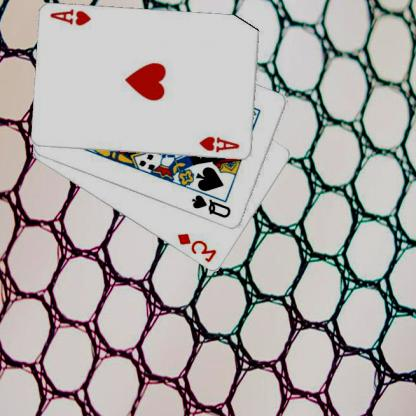3D: (176, 231, 220, 265)
AH: (50, 6, 94, 28), (198, 134, 242, 154)
QS: (191, 192, 234, 220)
